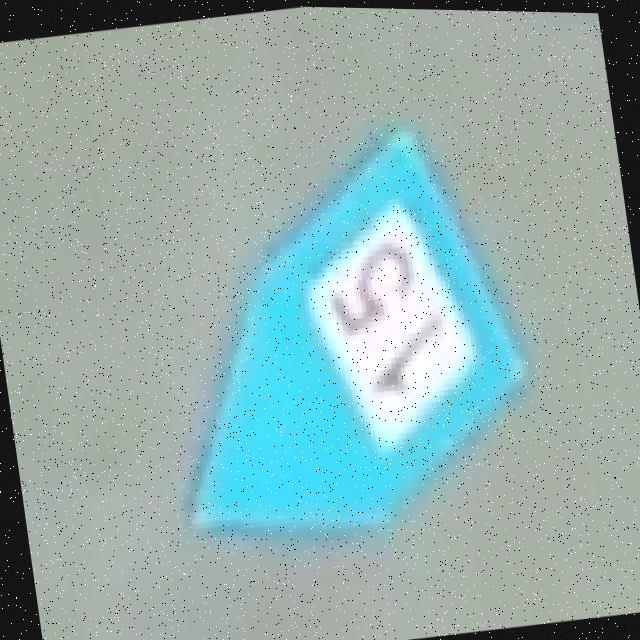board: (174, 110, 540, 530)
